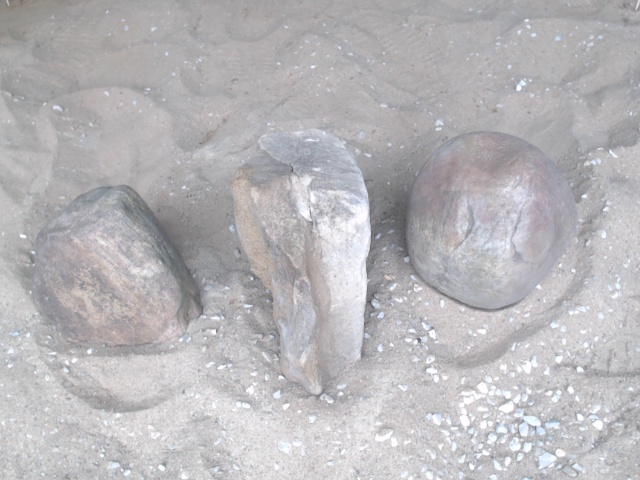rock: (225, 123, 378, 409), (397, 123, 583, 315), (22, 176, 207, 363)
